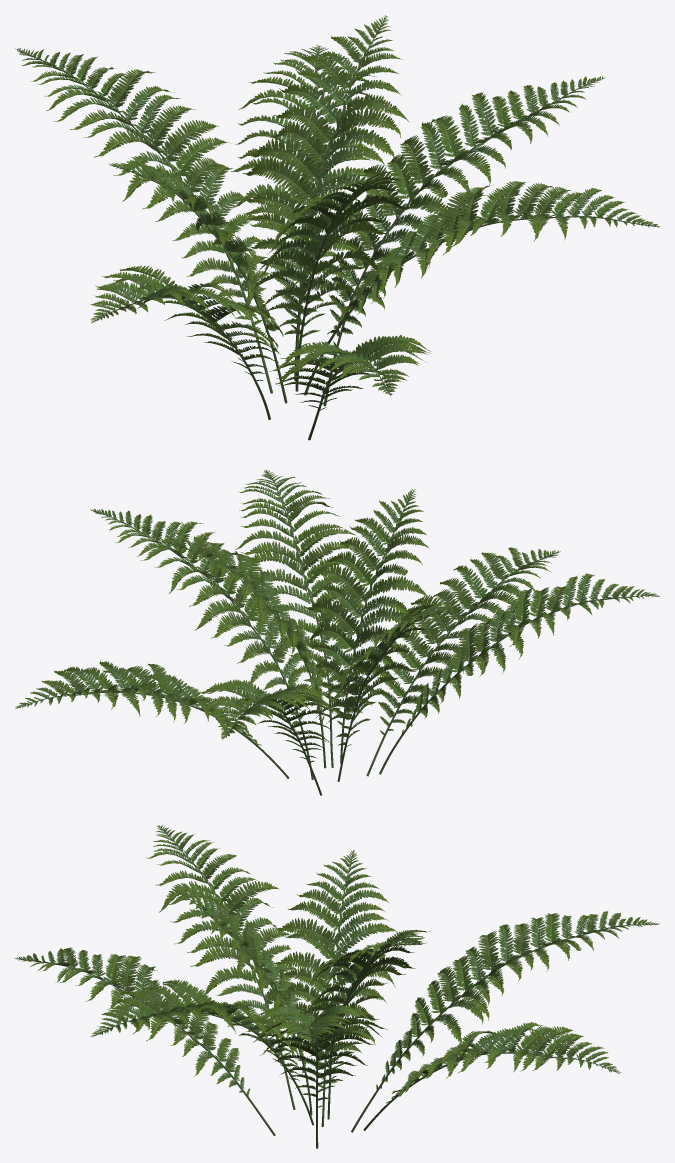
The model's file is garden_fern_02.glb.
The picture shows the model from 3 angles, top to bottom: view 1: azimuth 30°, elevation 25°; view 2: azimuth 150°, elevation 25°; view 3: azimuth 270°, elevation 25°; orthographic projection. The views are drawn at different scales.
Visible parts, largest first — view 1: garden_fern_02__lod0; view 2: garden_fern_02__lod0; view 3: garden_fern_02__lod0.
Part boxes in pixels (<box>): garden_fern_02__lod0: <box>15,15,659,440</box>; garden_fern_02__lod0: <box>15,470,659,795</box>; garden_fern_02__lod0: <box>14,825,659,1148</box>.
Size of what is drawn, in the model's own units: 0.4616 by 0.2295 by 0.5193.
4 materials, 4 textured.
